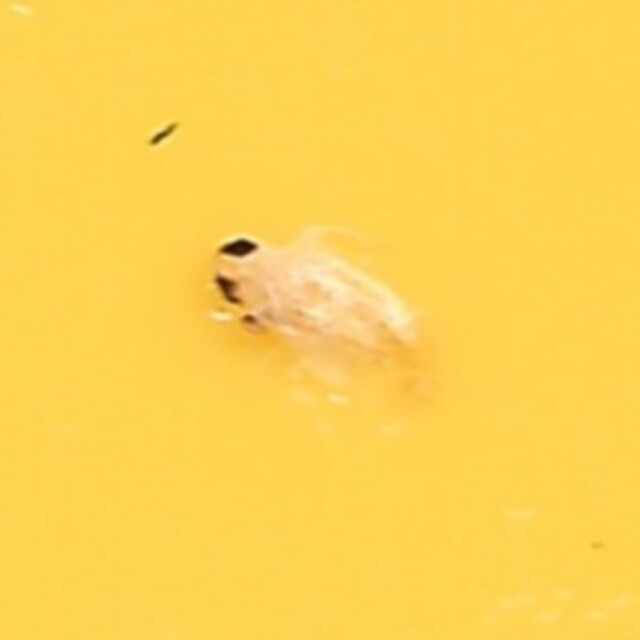Hemiptera: (203, 216, 437, 424)
